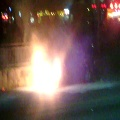fire: (26, 46, 61, 95)
